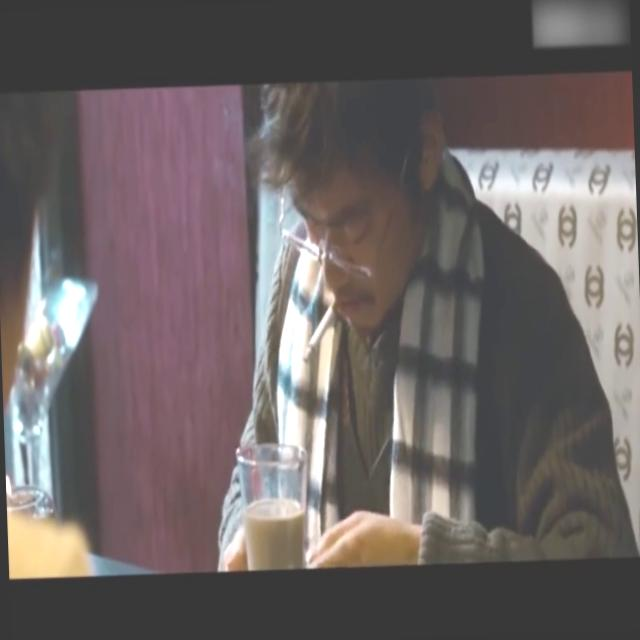cigarette: (301, 296, 338, 364)
